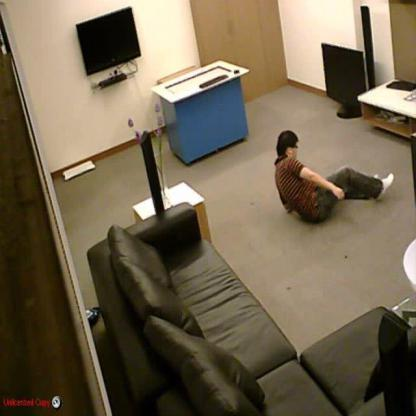Person: (274, 130, 394, 223)
